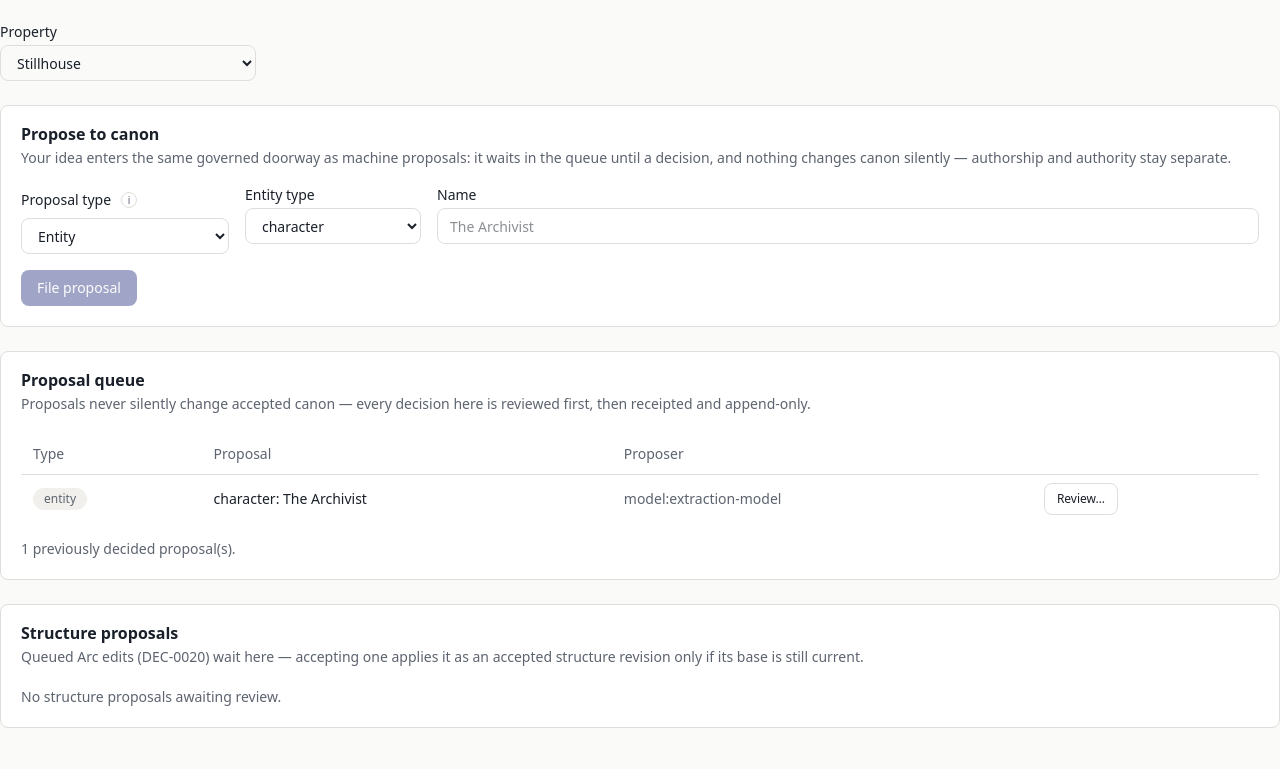
Test case: Review Room › accepting an entity proposal takes two activations and carries its stable id
Click the button "Review…" at (1081, 498), box [1044, 482, 1118, 514]
(page scrolled)
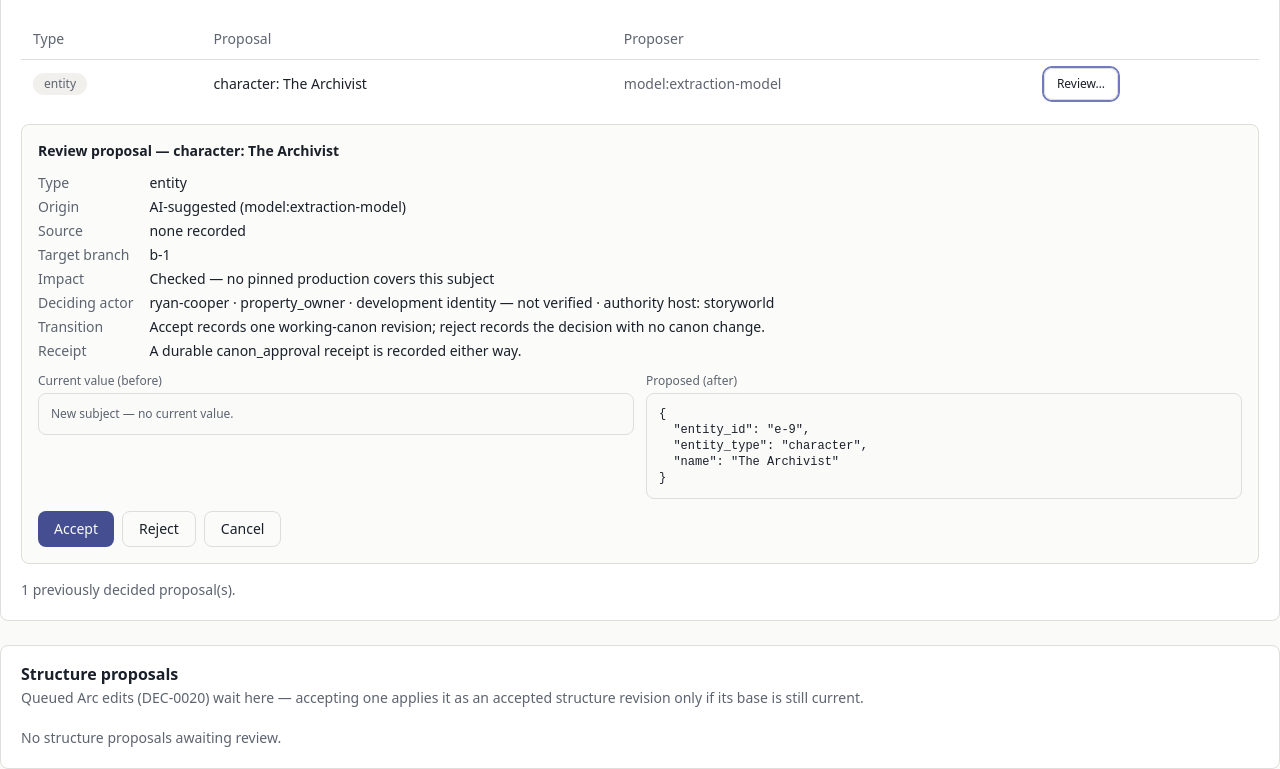
Click the button "Accept" at (76, 528), box [38, 510, 114, 546]
(page scrolled)
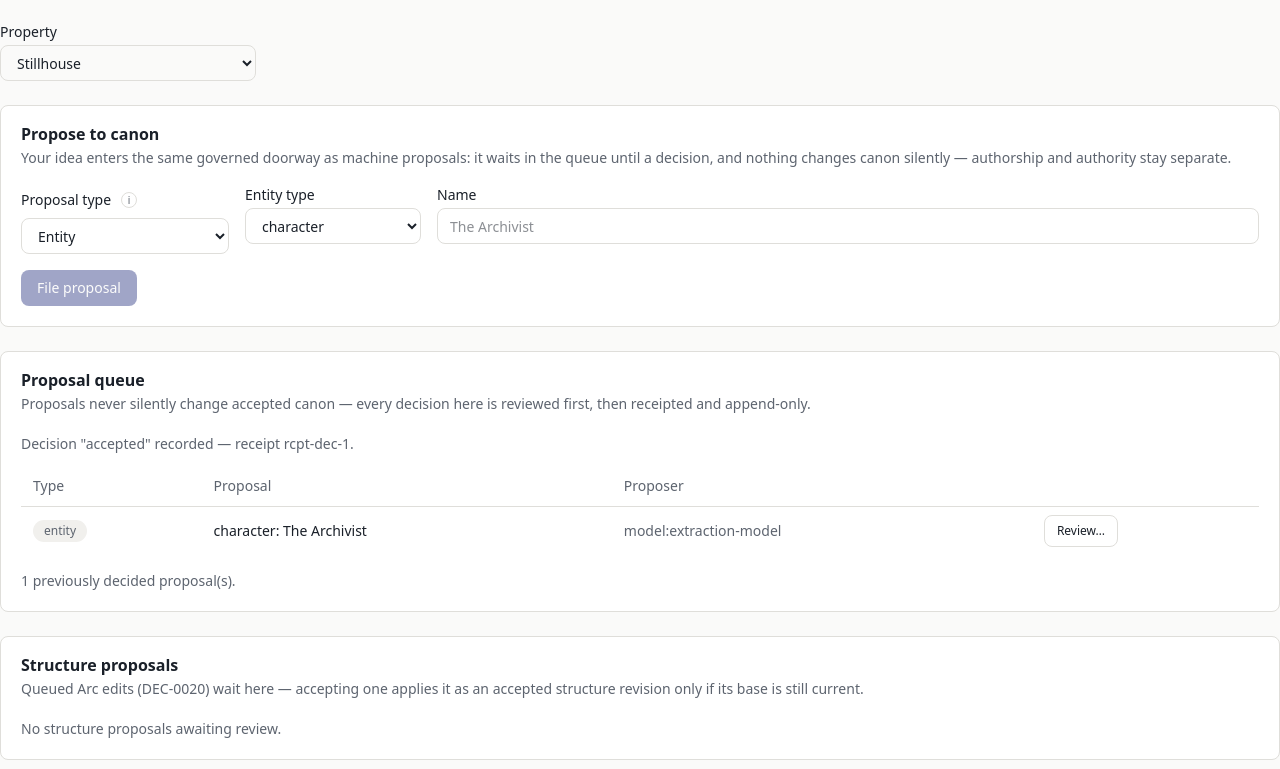
Check: the text "Decision \"accepted\" recorded — receipt rcpt-dec-1." is shown, box [21, 434, 354, 453]
